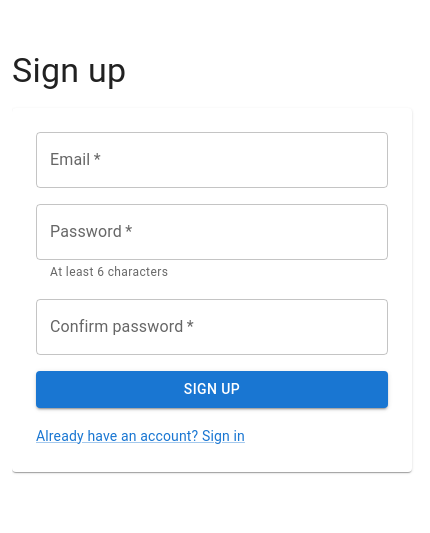
Test: SignupPage › shows offline message when signUp fails with network error
Type "test@example.com" into the field labelled "Email *" at (212, 160), box [36,132,388,188]
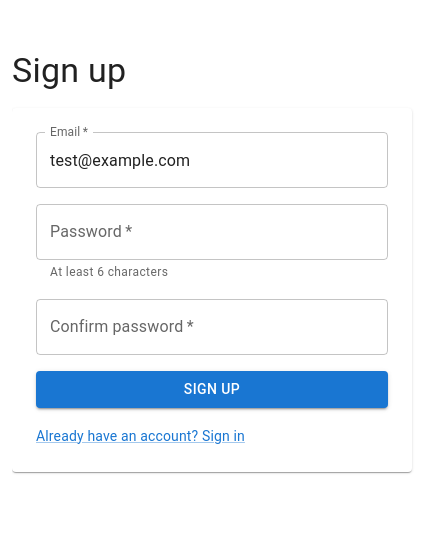
Type "password1" into the password field labelled "Password *" at (212, 232), box [36,204,388,260]
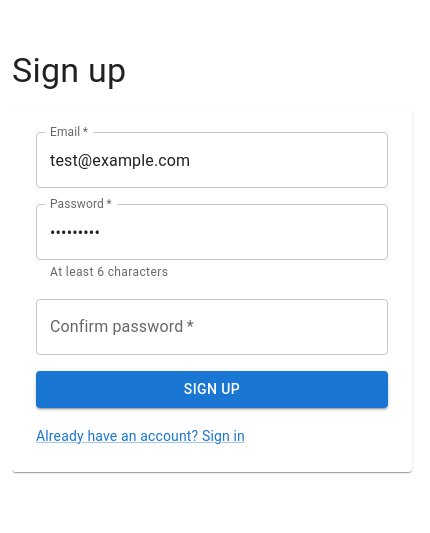
Type "password1" into the password field labelled "Confirm password *" at (212, 327), box [36,299,388,355]
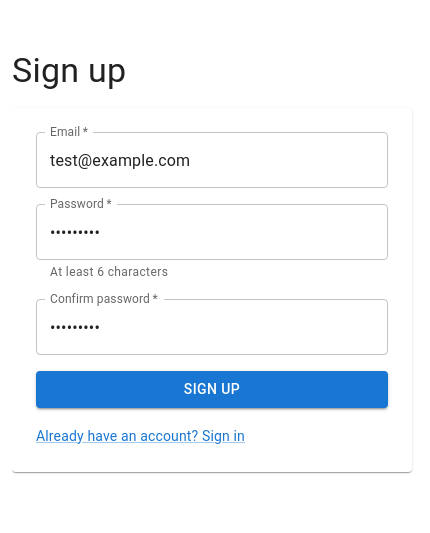
Submit the form from the button "Sign up", box [36,371,388,408]
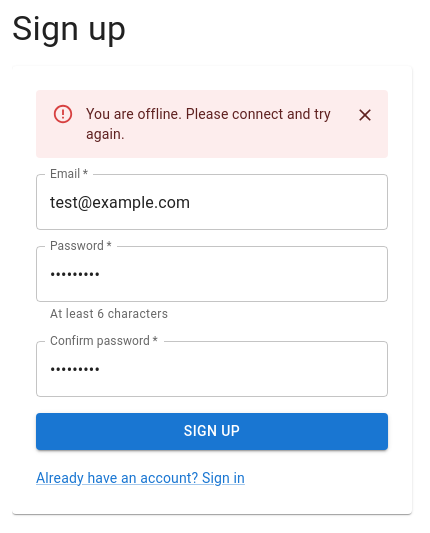
expect the text "You are offline. Please connect and try again." is shown: met, box [86,96,334,152]
